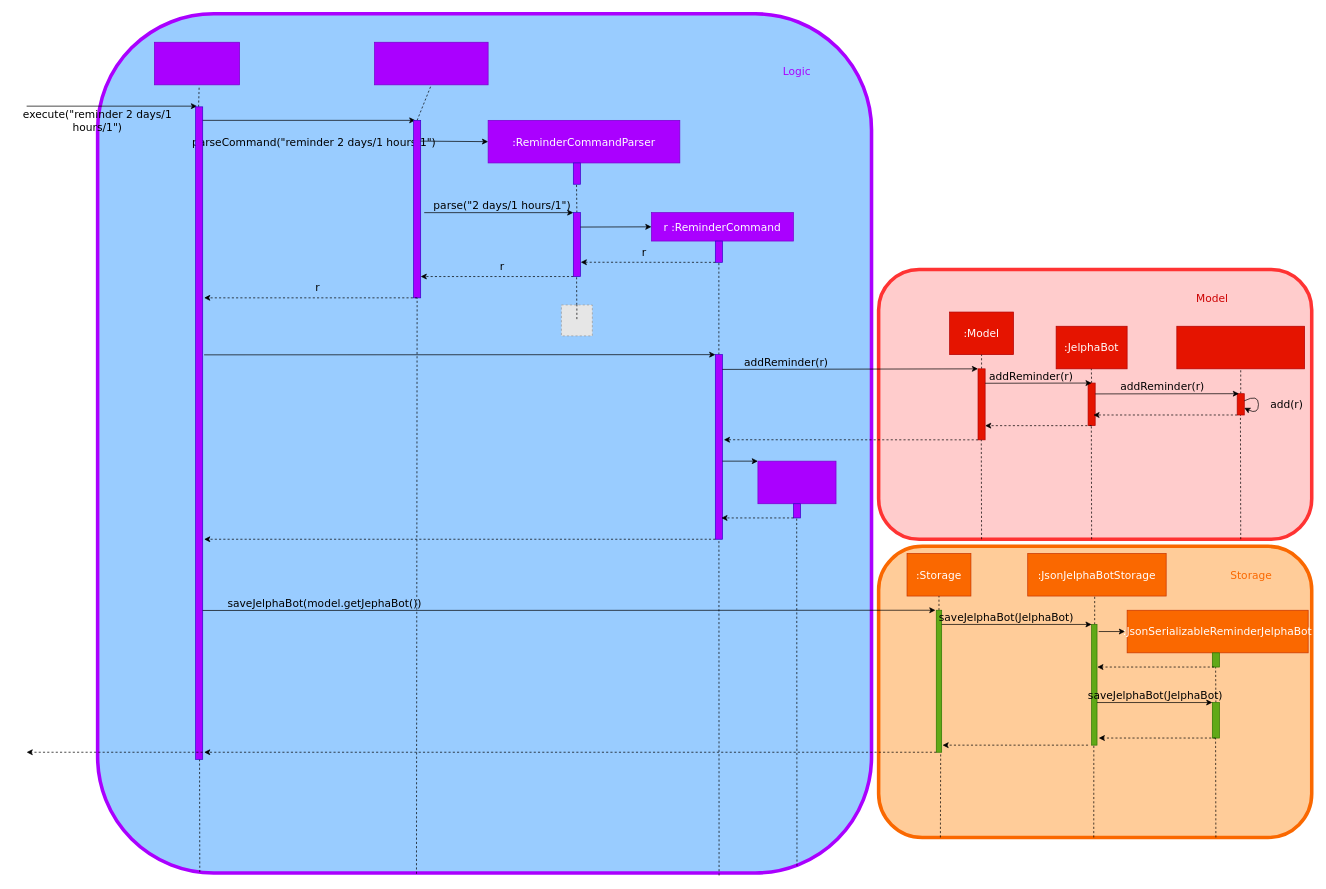
This 1326x889 diagram has some shape labels left out. Grey dashed boxes stand in for pictures. Here are the shapes that lost their labels. From the top down, the centre of each, then its label:
At point 197,63: ":LogicManager".
At point 431,63: ":JelphaBotParser".
At point 1240,347: ":UniqueReminderList".
At point 796,482: ":CommandResult".
